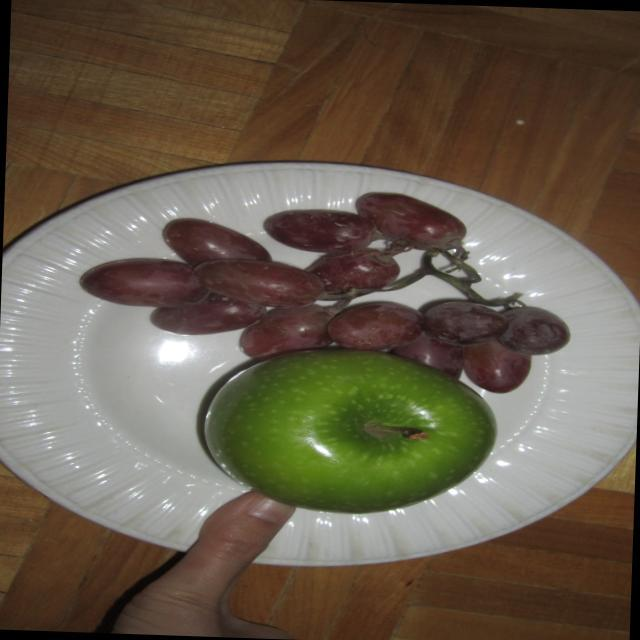Apple: (193, 356, 487, 511)
Finger: (153, 493, 297, 592)
Grapes: (52, 170, 598, 354)
